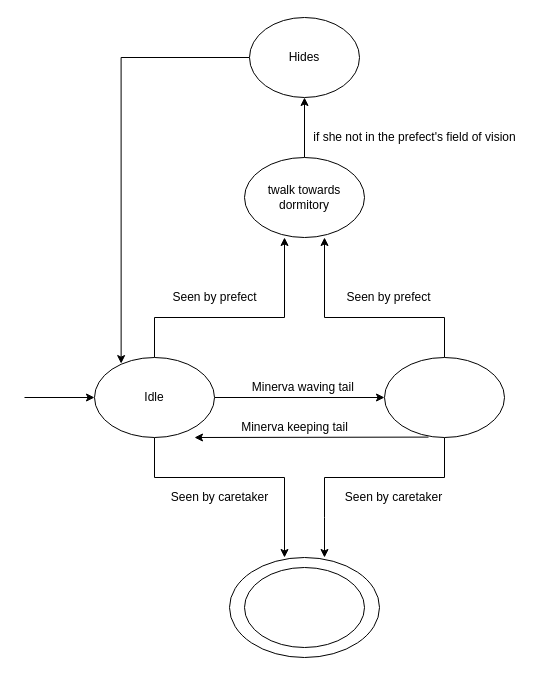
Some shapes in this 542 by 675 pixel diagram are drawn without their labels. The shapes that lost their labels are listed below. From the top down, each one's centre as x and y in pixels, then its label:
At (x=444, y=397): "Walk to Minerva".
At (x=304, y=607): "Back to dormitories".
